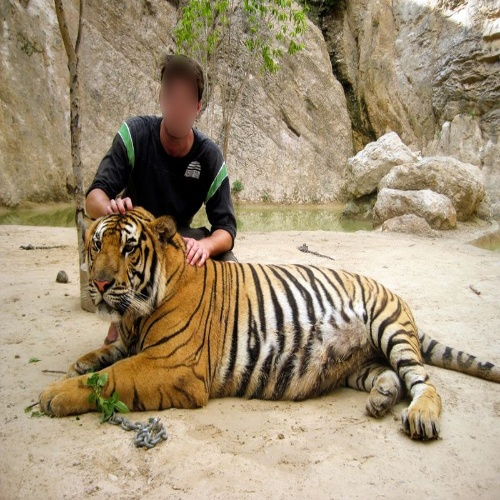tiger: (30, 188, 478, 495)
